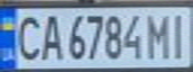4: (121, 10, 148, 60)
6: (63, 11, 87, 61)
7: (81, 10, 106, 60)
8: (103, 11, 127, 60)
A: (36, 10, 63, 62)
C: (9, 11, 45, 62)
I: (166, 9, 193, 60)
M: (145, 10, 175, 60)
